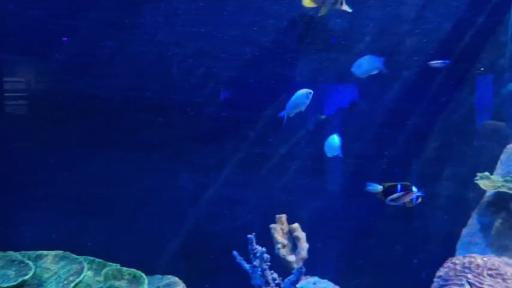Fish: (366, 183, 423, 206), (279, 89, 313, 122), (351, 55, 387, 77), (302, 0, 352, 15), (324, 134, 342, 157), (428, 60, 450, 67)
